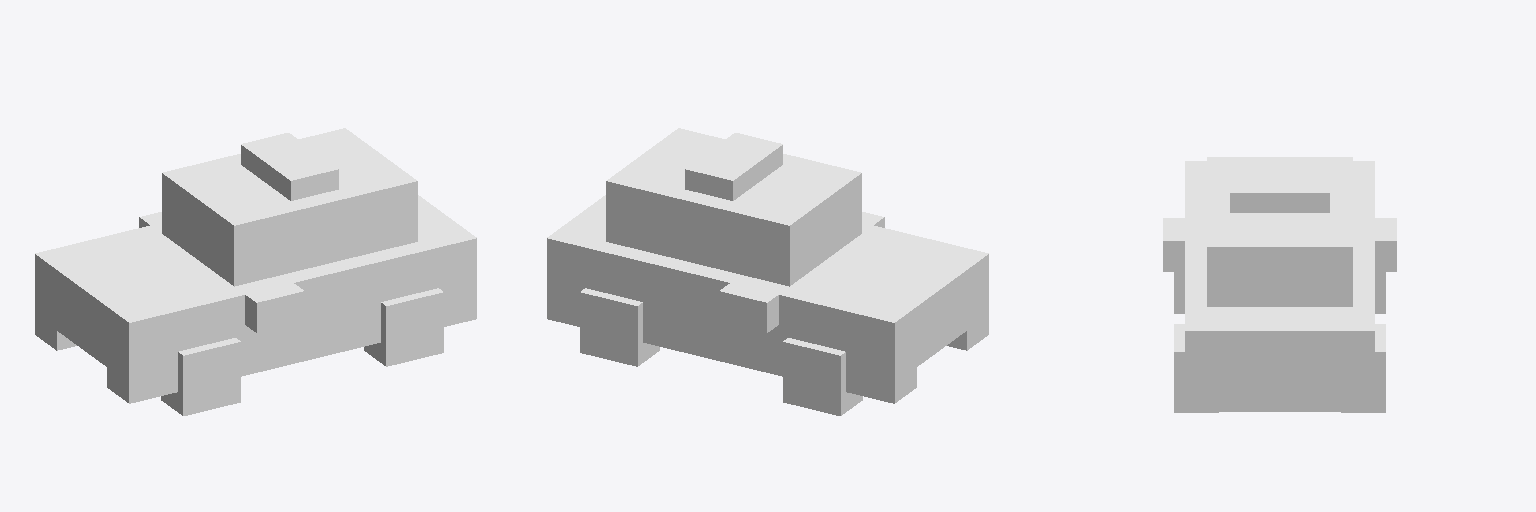
Rendered from car_taxi.obj.
3 renders of one model, left to right at view 1: azimuth 30°, elevation 25°; view 2: azimuth 150°, elevation 25°; view 3: azimuth 270°, elevation 25°, orthographic.
Visible parts, largest first — view 1: object 1; view 2: object 1; view 3: object 1.
Part boxes in pixels (x1,y1,x2,y2): object 1: (35, 128, 476, 415); object 1: (547, 128, 988, 415); object 1: (1163, 157, 1396, 412).
Size of the model in its own units: 3.6 by 1.8 by 2.1.